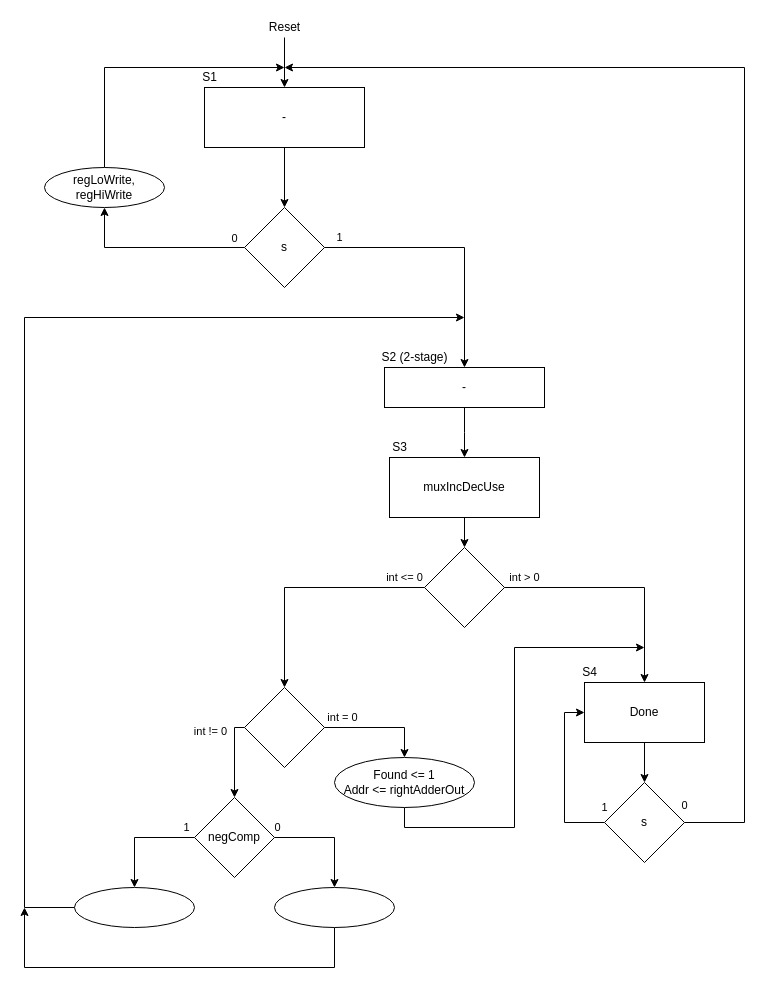
Some shapes in this 770 by 993 pixel diagram are drawn without their labels. Each missing label, with the box of its shape:
abortSignals: (424, 546, 504, 628)
compOut: (244, 686, 324, 768)
regHiWrite: (74, 886, 194, 928)
regLoWrite: (274, 886, 394, 928)
